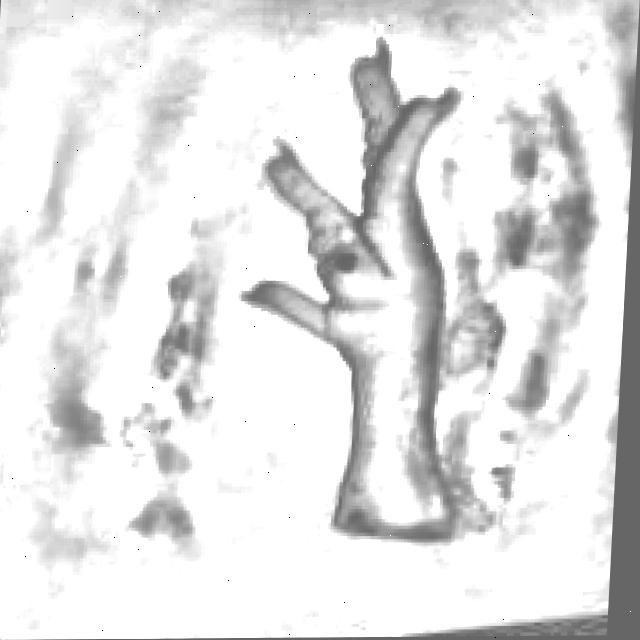Bumble foot: (311, 228, 380, 295)
